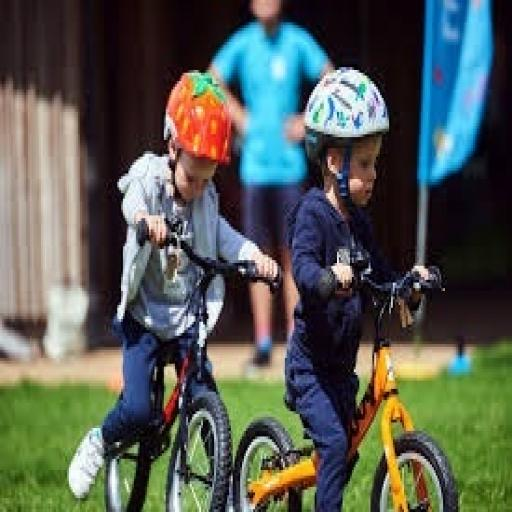cycling: (65, 67, 283, 507), (281, 64, 443, 510)
